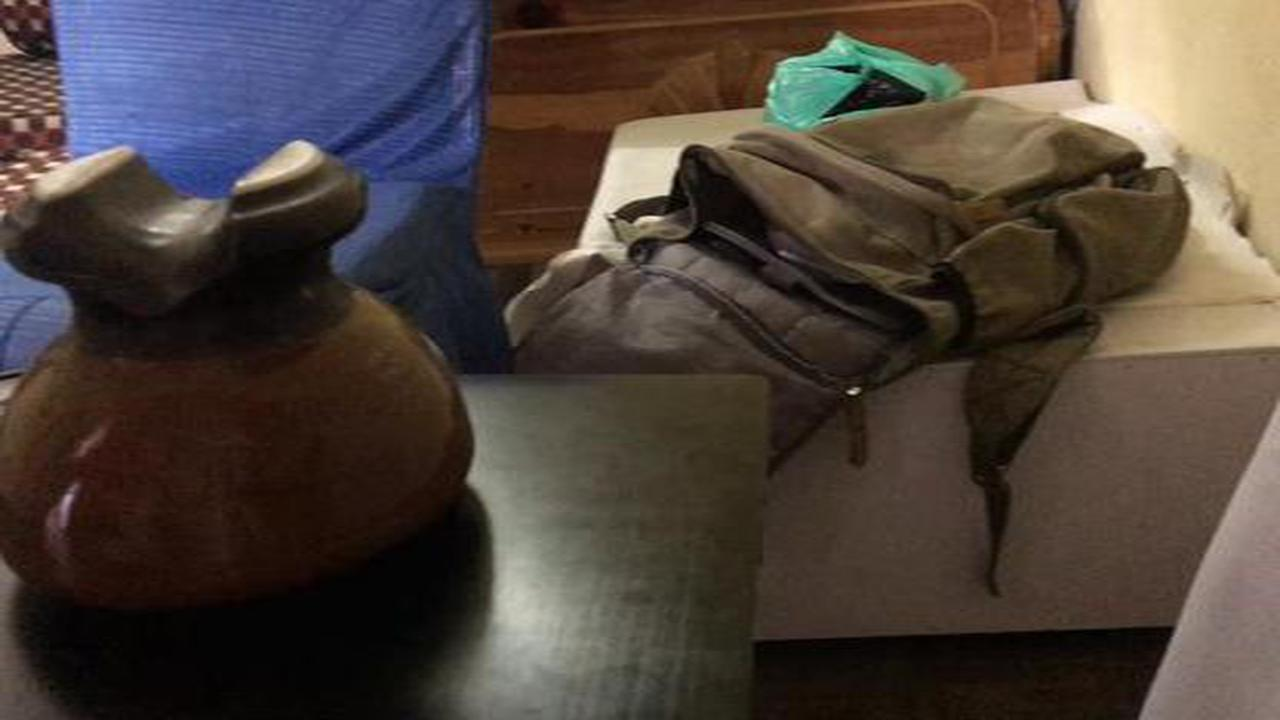insulator_pin: (1, 132, 490, 627)
